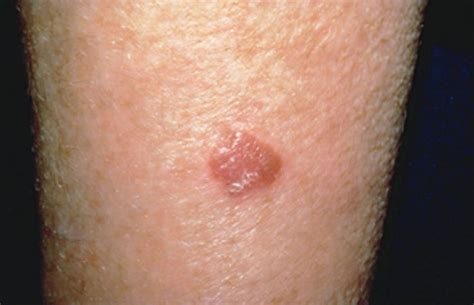Carcinoma: (213, 125, 280, 198)
